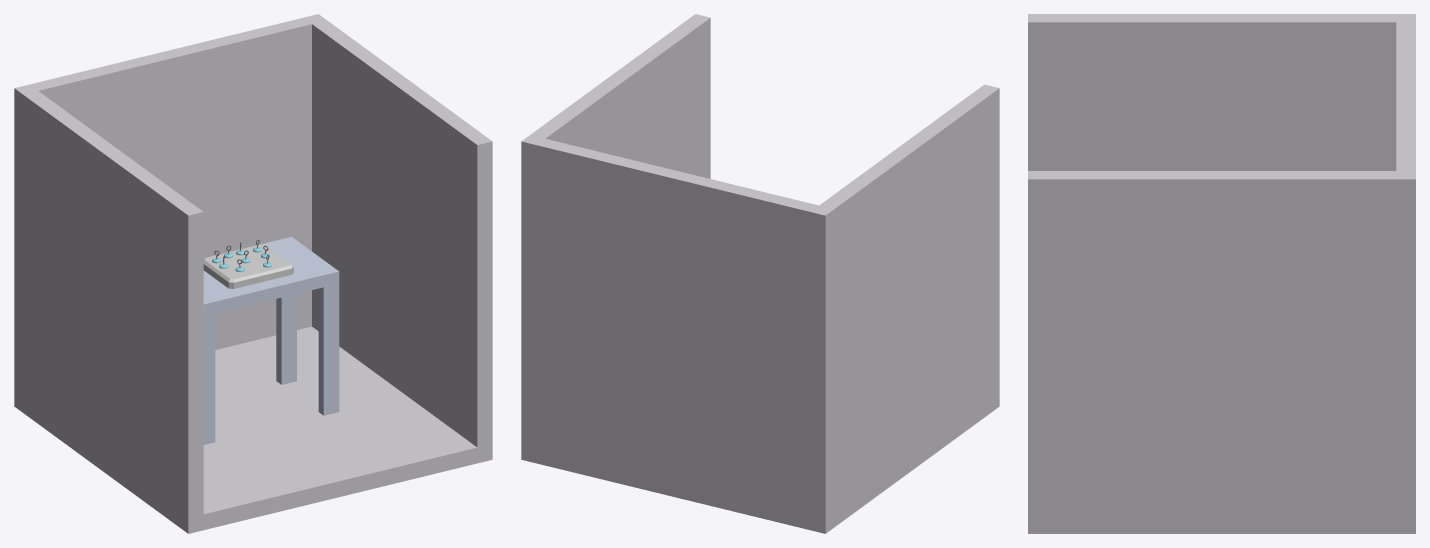
The model's file is MockupNivelGancho.glb.
The picture shows the model from 3 angles, left to right: view 1: azimuth 30°, elevation 25°; view 2: azimuth 150°, elevation 25°; view 3: azimuth 270°, elevation 25°; orthographic projection. The views are drawn at different scales.
Parts seen in each view (by area): view 1: Ambiente, Mesa, Ganchos; view 2: Ambiente; view 3: Ambiente.
Boxes of the visible parts, box(x1,y1,x2,y2) form: Ambiente: box(14, 14, 492, 533); Mesa: box(203, 237, 339, 444); Ganchos: box(203, 239, 293, 288); Ambiente: box(521, 14, 999, 533); Ambiente: box(1028, 14, 1415, 533).
Bounding box in the file's own units: 2 × 2 × 1.98.
